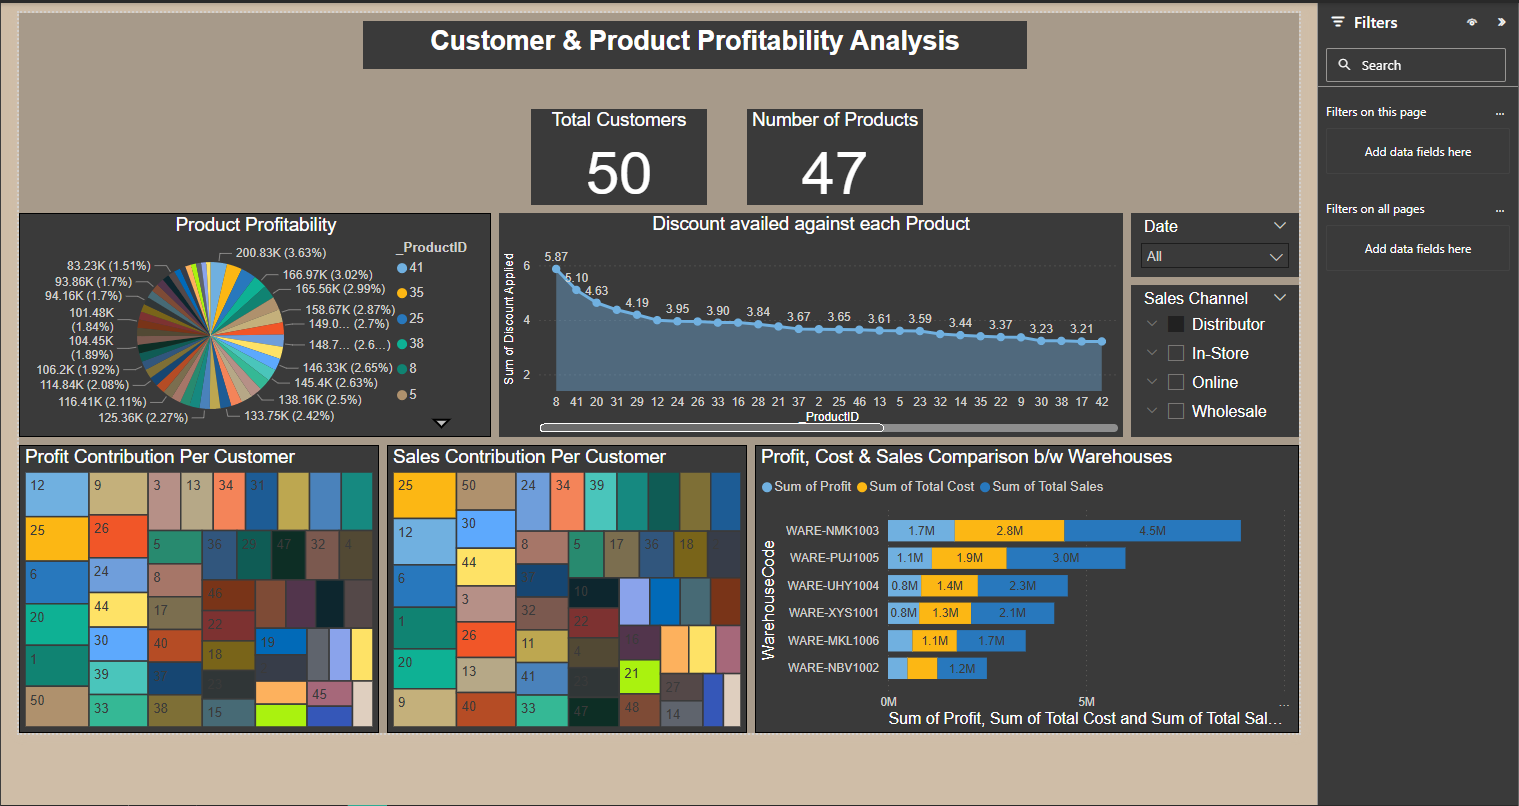

What the dashboard file says about the page in this screenshot:
{"tool":"powerbi","page":{"name":"Customer & Product","canvas":[1280,720],"ordinal":1},"visuals":[{"type":"treemap","title":"Sales Contribution Per Customer","fields":{"Group":["Working Sheet._CustomerID"],"Values":["Sum(Working Sheet.Total Sales)"]},"box":[368,432,360,288],"z":0},{"type":"barChart","title":"Profit, Cost & Sales Comparison b/w Warehouses ","fields":{"Y":["Sum(Working Sheet.Profit)","Sum(Working Sheet.Total Cost)","Sum(Working Sheet.Total Sales)"],"Category":["Working Sheet.WarehouseCode"]},"box":[736,432,544,288],"z":1000},{"type":"treemap","title":"Profit Contribution Per Customer","fields":{"Group":["Working Sheet._CustomerID"],"Values":["Sum(Working Sheet.Profit)"]},"box":[0,432,360,288],"z":2000},{"type":"pieChart","title":"Product Profitability","fields":{"Category":["Working Sheet._ProductID"],"Y":["Sum(Working Sheet.Profit)"]},"box":[0,200,472,224],"z":3000},{"type":"slicer","fields":{"Values":["Working Sheet.Sales Channel","Working Sheet.R-Order Date","Working Sheet.R-Order Date.Variation.Date Hierarchy.Year"]},"box":[1112,272,168,152],"z":4000},{"type":"slicer","fields":{"Values":["Working Sheet.R-Order Date.Variation.Date Hierarchy.Year","Working Sheet.R-Order Date.Variation.Date Hierarchy.Quarter","Working Sheet.R-Order Date.Variation.Date Hierarchy.Month","Working Sheet.R-Order Date.Variation.Date Hierarchy.Day"]},"box":[1112,200,168,64],"z":5000},{"type":"textbox","box":[344,8,664,48],"z":6000},{"type":"card","title":"Total Customers","fields":{"Values":["Count(Working Sheet._CustomerID)"]},"box":[512,96,176,96],"z":7000},{"type":"card","title":"Number of Products","fields":{"Values":["Count(Working Sheet._ProductID)"]},"box":[728,96,176,96],"z":8000},{"type":"stackedAreaChart","title":"Discount availed against each Product","fields":{"Category":["Working Sheet._ProductID"],"Y":["Sum(Working Sheet.Discount Applied)"]},"box":[480,200,624,224],"z":9000}]}

Visuals, with their boxes on the page's 1280x720 design canvas (x1, y1, x2, y2). These are canvas units, not pixel positions in the 1519x806 screenshot, which may show the page scaled, cropped or inside an application window:
"Sales Contribution Per Customer" treemap: select_region(368, 432, 728, 720)
"Profit, Cost & Sales Comparison b/w Warehouses " barChart: select_region(736, 432, 1280, 720)
"Profit Contribution Per Customer" treemap: select_region(0, 432, 360, 720)
"Product Profitability" pieChart: select_region(0, 200, 472, 424)
slicer - Working Sheet.Sales Channel x Working Sheet.R-Order Date: select_region(1112, 272, 1280, 424)
slicer - Working Sheet.R-Order Date.Variation.Date Hierarchy.Year x Working Sheet.R-Order Date.Variation.Date Hierarchy.Quarter: select_region(1112, 200, 1280, 264)
textbox: select_region(344, 8, 1008, 56)
"Total Customers" card: select_region(512, 96, 688, 192)
"Number of Products" card: select_region(728, 96, 904, 192)
"Discount availed against each Product" stackedAreaChart: select_region(480, 200, 1104, 424)
